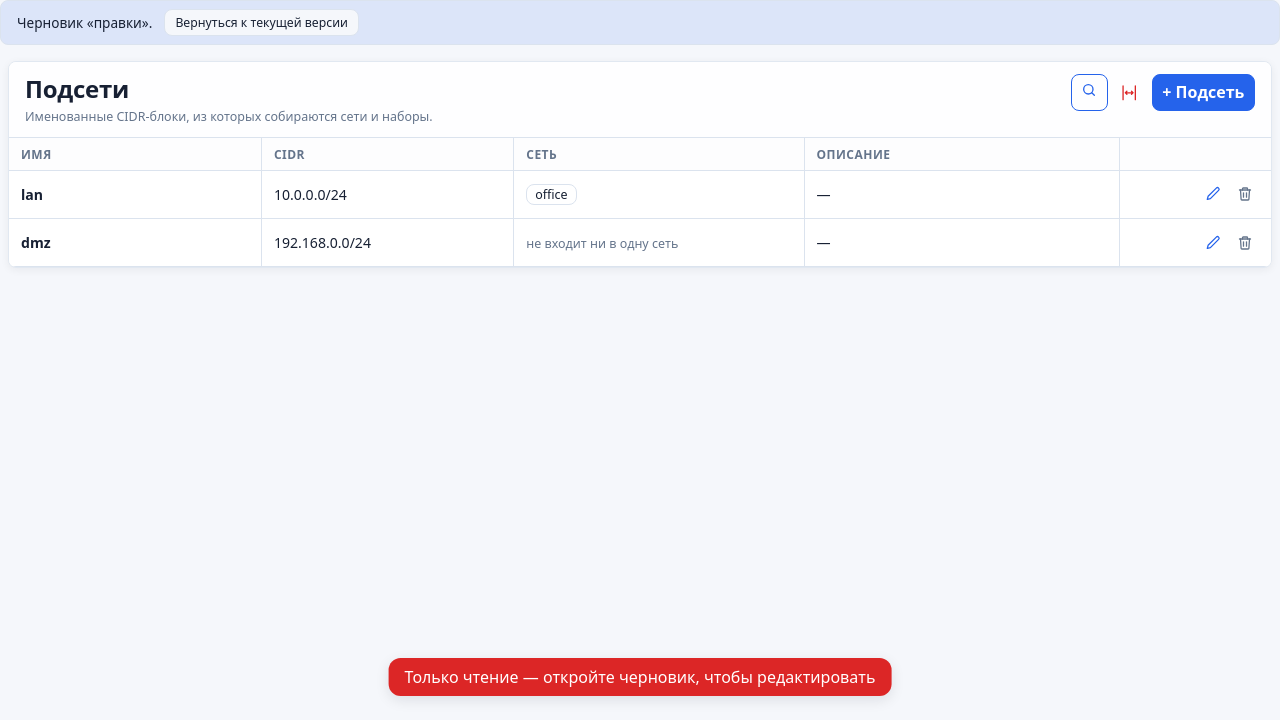
it: SubnetsPage › rejects a duplicate name in the edit dialog
The image size is (1280, 720).
Expected: the text "lan" is shown, [9,170,261,218]
Click the button titled "Изменить подсеть lan". click: (1213, 194)
box: [1199,180,1227,208]
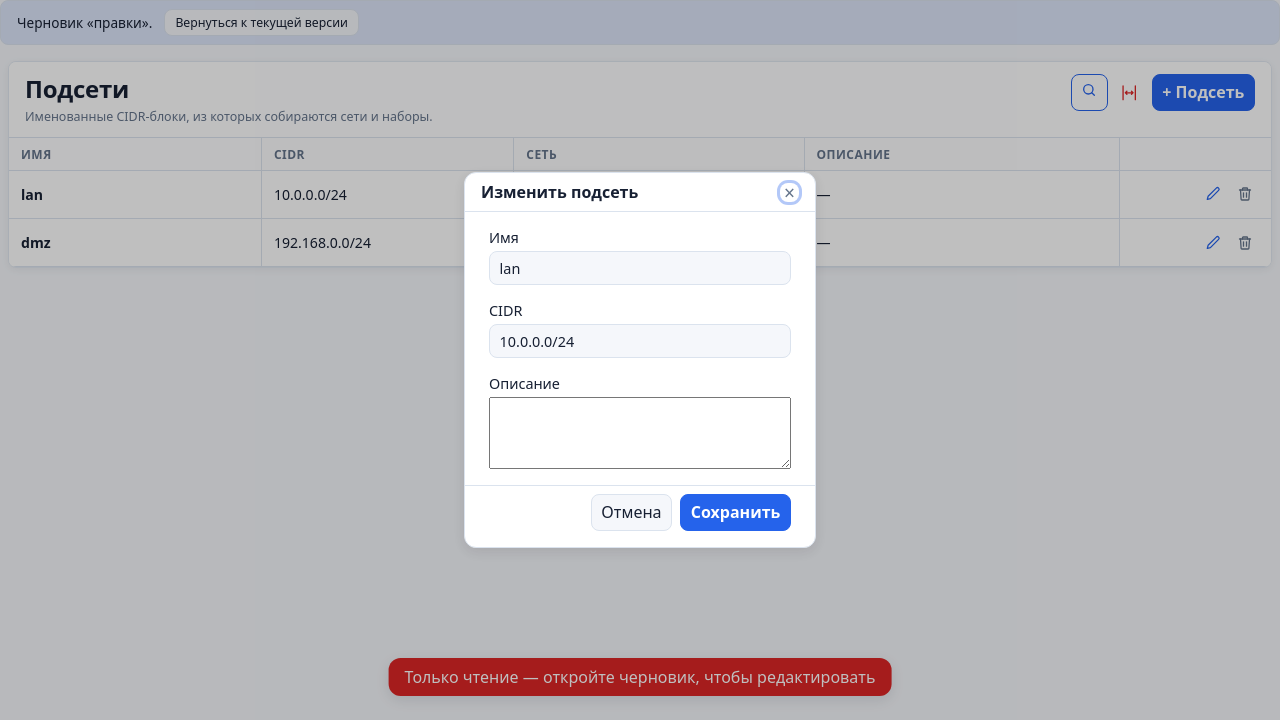
Clear the field labelled "Имя". click: (640, 268)
box: [489,251,791,285]
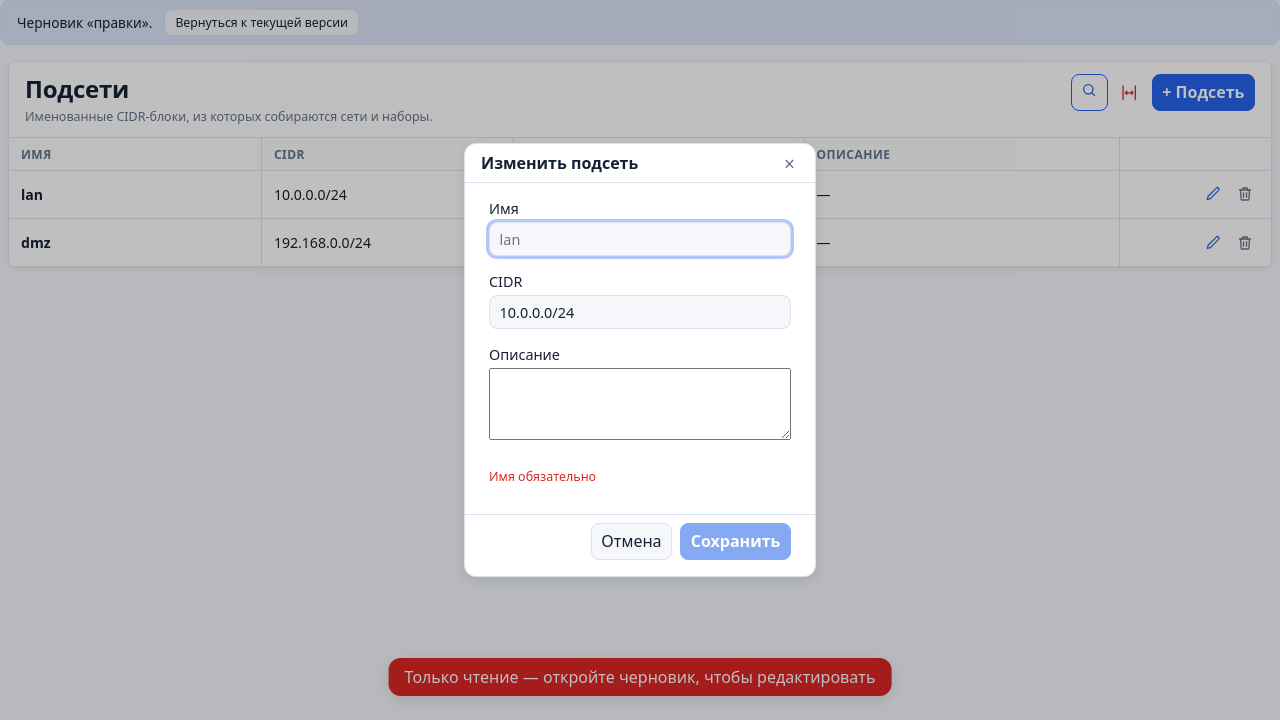
Type "dmz" into the field labelled "Имя". click: (640, 239)
box: [489,222,791,256]
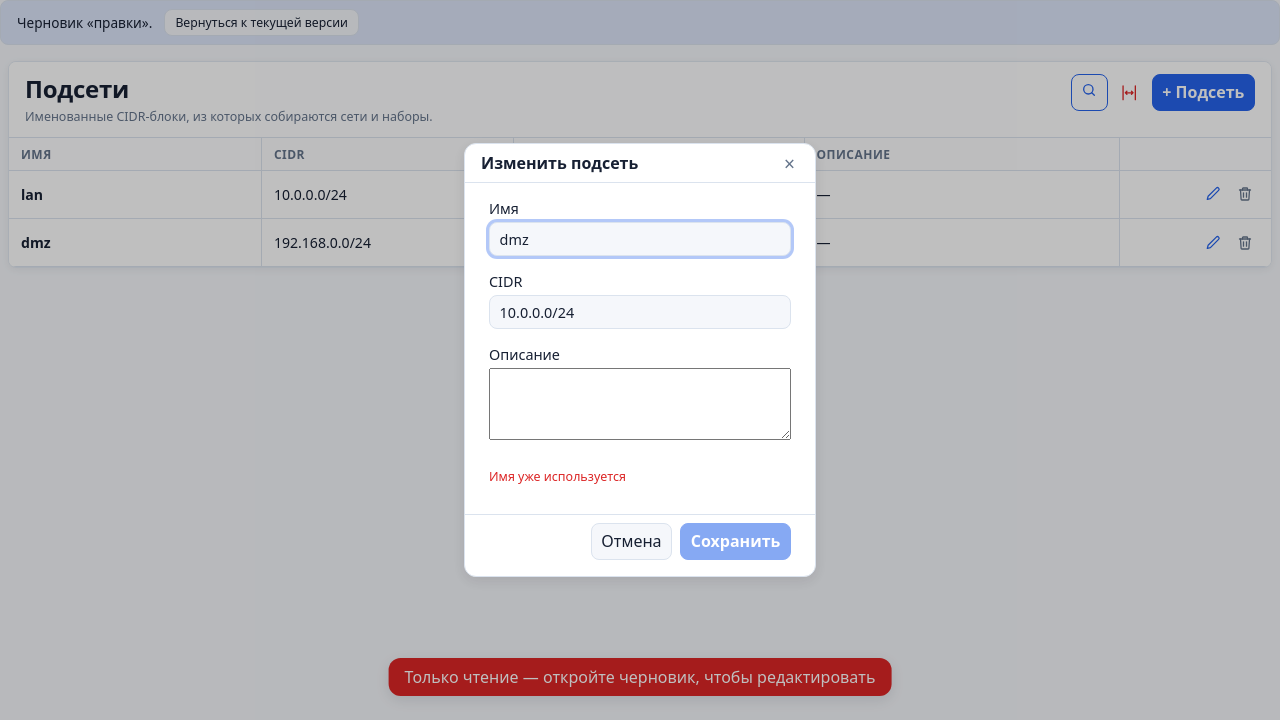
Expected: the text "Имя уже используется" is shown, [489,468,626,485]
